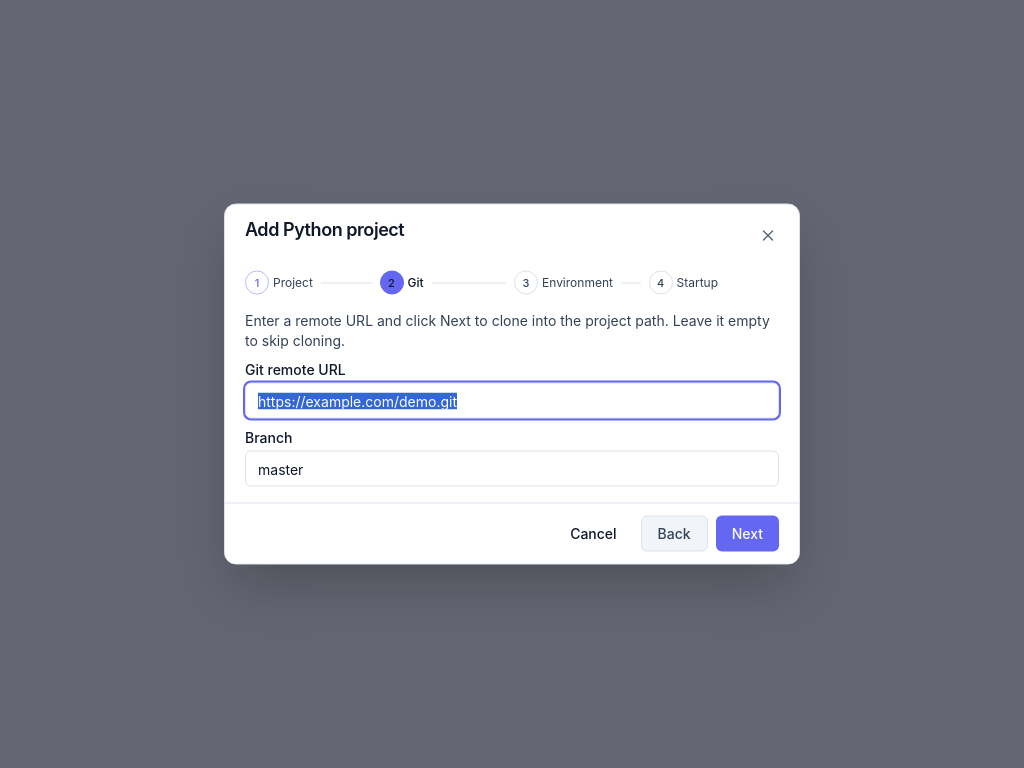
Test: explains Git directory failure DEPLOYMENT_GIT_PATH_DENIED without advancing the wizard
The width and height of the screenshot is (1024, 768).
Press the mouse on the button "Next": (747, 534) [716,516,779,552]
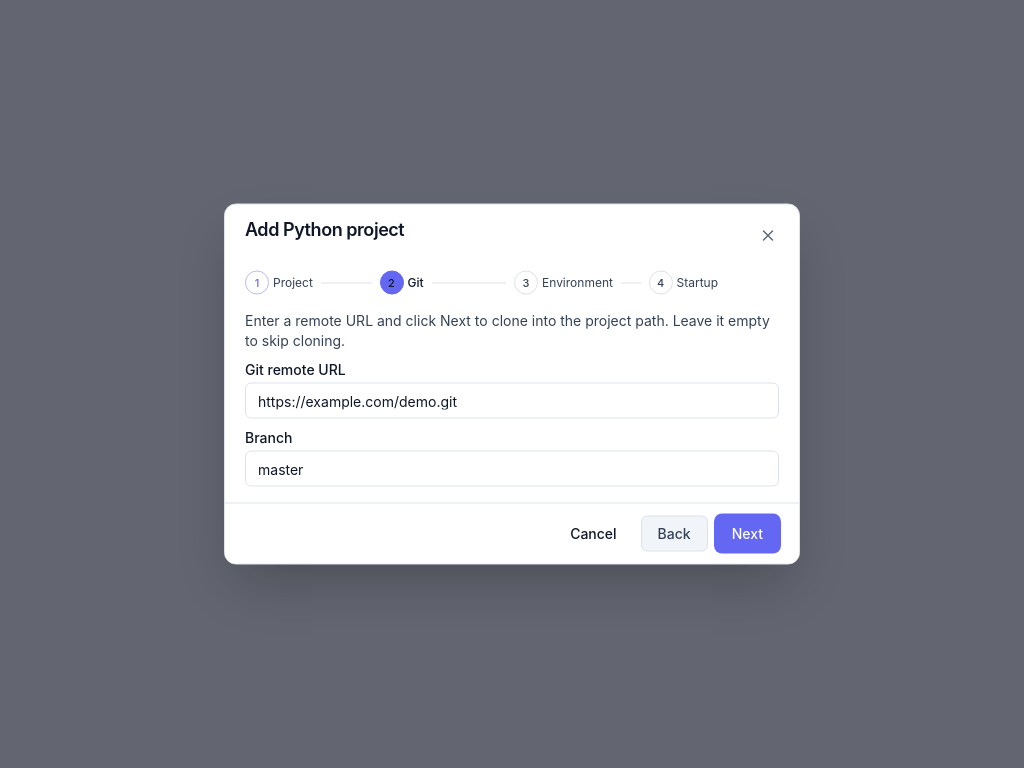
Click the button "Next": click(747, 534) [716,516,779,552]
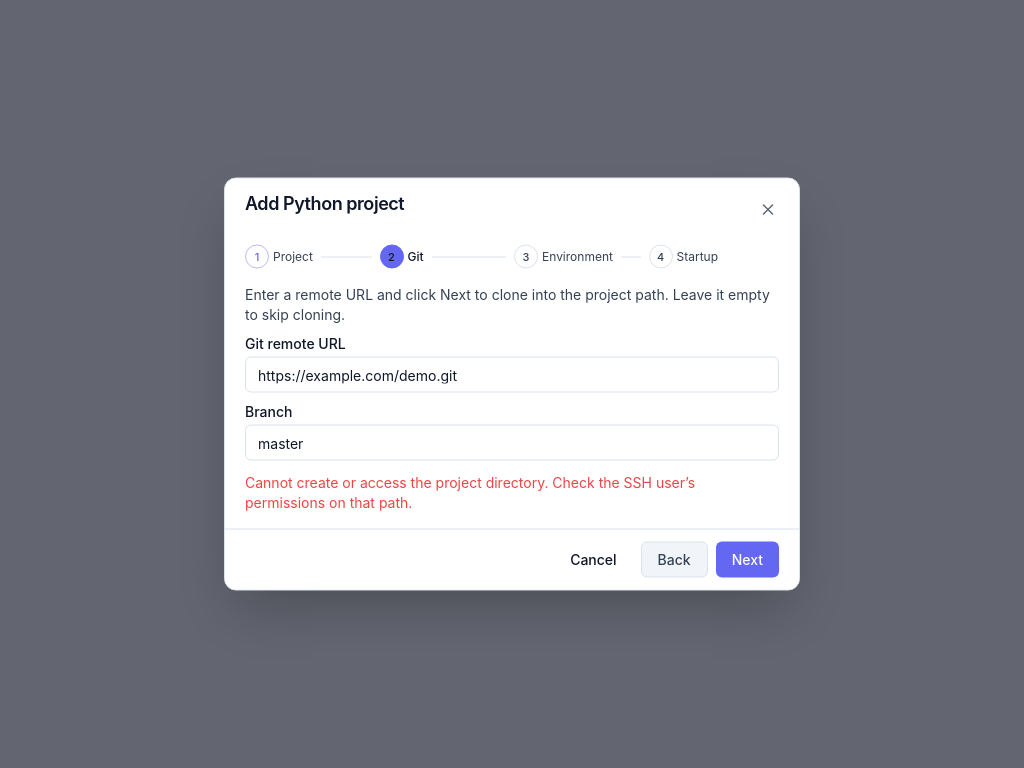
Expected: the text "Cannot create or access the project directory. Check the SSH user’s permissions on that path." is shown, [245,474,695,510]
